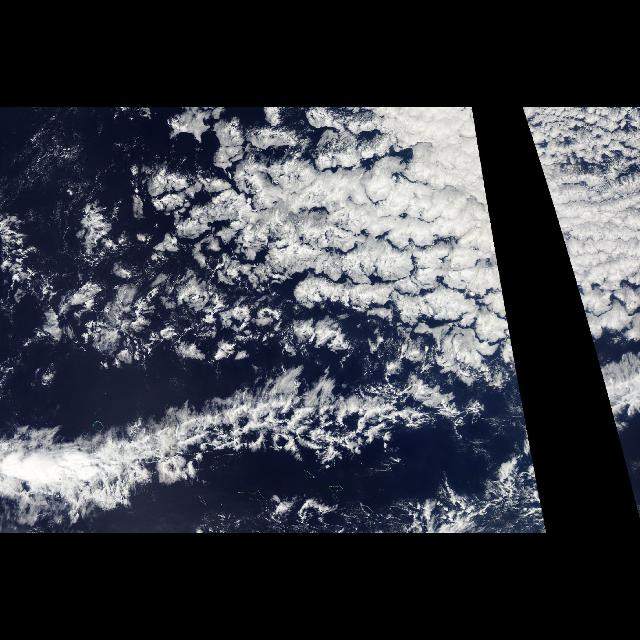Fish: (0, 350, 482, 526)
Flower: (132, 118, 404, 352)
